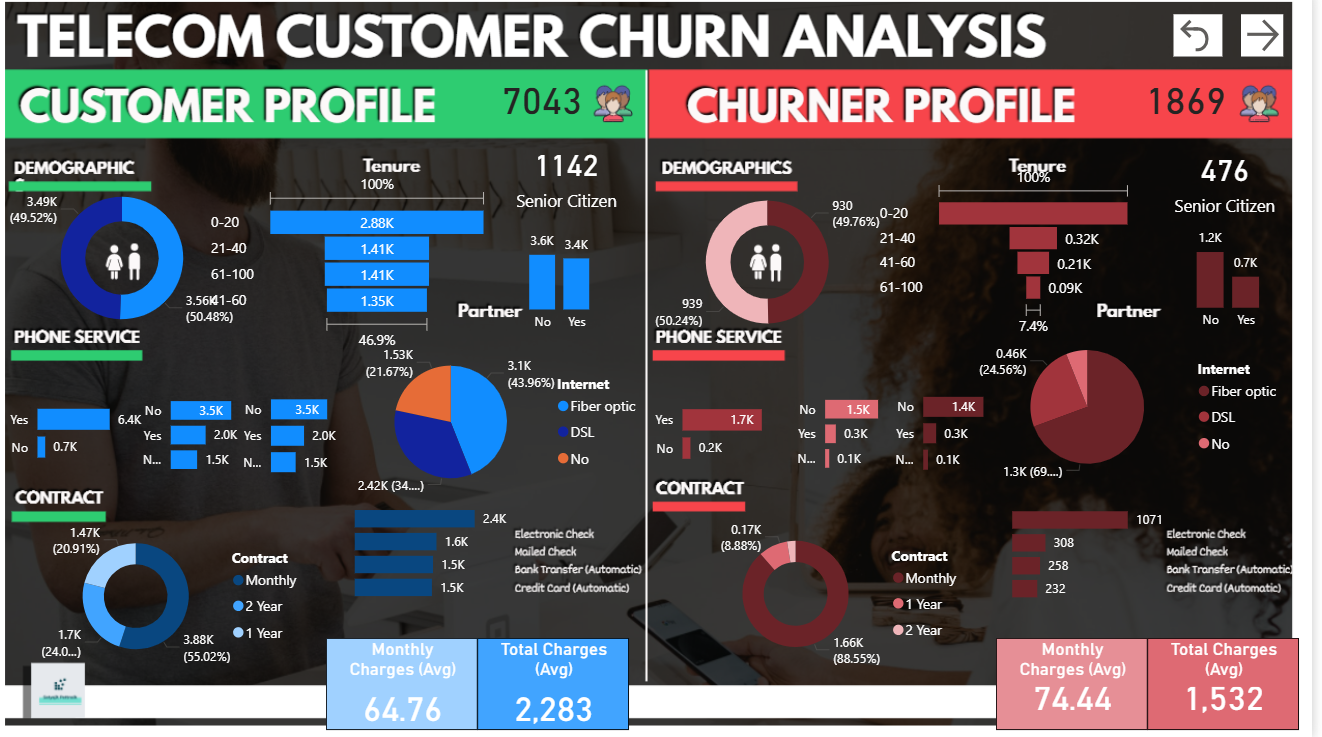

The page's visual inventory and layout, read from the dashboard file:
{"tool":"powerbi","page":{"name":"Summary","canvas":[1280,720],"ordinal":0},"visuals":[{"type":"card","fields":{"Values":["CountNonNull(Churned_Data.Churn)"]},"box":[1077.6,84.7,161.6,54.9],"z":0},{"type":"card","fields":{"Values":["CountNonNull(Telco-Churn-Analysis.Churn)"]},"box":[456.5,84.7,161.6,54.9],"z":1000},{"type":"donutChart","fields":{"Category":["Telco-Churn-Analysis.gender"],"Y":["CountNonNull(Telco-Churn-Analysis.gender)"]},"box":[17.3,169.4,229,174.1],"z":2000},{"type":"donutChart","fields":{"Category":["Churned_Data.gender"],"Y":["CountNonNull(Churned_Data.gender)"]},"box":[639.9,172.2,229.6,174.6],"z":3000},{"type":"funnel","fields":{"Category":["Telco-Churn-Analysis.Tenure_Bin"],"Y":["CountNonNull(Telco-Churn-Analysis.Tenure_Bin)"]},"box":[212.9,169.1,278,180.4],"z":4000},{"type":"funnel","fields":{"Category":["Churned_Data.Tenure_Bin"],"Y":["CountNonNull(Churned_Data.Tenure_Bin)"]},"box":[858,161.6,254.1,174.1],"z":5000},{"type":"card","fields":{"Values":["Sum(Telco-Churn-Analysis.SeniorCitizen)"]},"box":[505.1,138,109.8,76.9],"z":6000},{"type":"card","fields":{"Values":["Sum(Churned_Data.SeniorCitizen)"]},"box":[1140.4,141.2,111.4,78.4],"z":7000},{"type":"clusteredColumnChart","fields":{"Category":["Telco-Churn-Analysis.Partner"],"Y":["CountNonNull(Telco-Churn-Analysis.Partner)"]},"box":[489.4,219.6,128.6,116.1],"z":8000},{"type":"clusteredColumnChart","fields":{"Category":["Churned_Data.Partner"],"Y":["CountNonNull(Churned_Data.Partner)"]},"box":[1132.5,214.9,133.3,119.2],"z":9000},{"type":"clusteredBarChart","fields":{"Category":["Telco-Churn-Analysis.PhoneService"],"Y":["CountNonNull(Telco-Churn-Analysis.PhoneService)"]},"box":[17.3,363.9,139.6,114.5],"z":10000},{"type":"clusteredBarChart","fields":{"Category":["Churned_Data.PhoneService"],"Y":["CountNonNull(Churned_Data.PhoneService)"]},"box":[640,363.9,141.2,116.1],"z":11000},{"type":"clusteredBarChart","fields":{"Category":["Telco-Churn-Analysis.OnlineSecurity"],"Y":["CountNonNull(Telco-Churn-Analysis.OnlineSecurity)"]},"box":[131.8,371.8,134.9,103.5],"z":12000},{"type":"clusteredBarChart","fields":{"Category":["Churned_Data.OnlineSecurity"],"Y":["CountNonNull(Churned_Data.OnlineSecurity)"]},"box":[765.5,370.2,125.5,103.5],"z":13000},{"type":"clusteredBarChart","fields":{"Category":["Telco-Churn-Analysis.TechSupport"],"Y":["CountNonNull(Telco-Churn-Analysis.TechSupport)"]},"box":[229,368.6,133.3,109.8],"z":14000},{"type":"clusteredBarChart","fields":{"Category":["Churned_Data.TechSupport"],"Y":["CountNonNull(Churned_Data.TechSupport)"]},"box":[858,367.1,136.5,109.8],"z":15000},{"type":"pieChart","fields":{"Y":["CountNonNull(Telco-Churn-Analysis.InternetService)"],"Category":["Telco-Churn-Analysis.InternetService"]},"box":[342,334.1,299.6,160],"z":16000},{"type":"pieChart","fields":{"Category":["Churned_Data.InternetService"],"Y":["CountNonNull(Churned_Data.InternetService)"]},"box":[952.2,320,307.5,160],"z":17000},{"type":"donutChart","fields":{"Category":["Telco-Churn-Analysis.Contract"],"Y":["CountNonNull(Telco-Churn-Analysis.Contract)"]},"box":[47.1,505.1,268.2,153.7],"z":18000},{"type":"donutChart","fields":{"Category":["Churned_Data.Contract"],"Y":["CountNonNull(Churned_Data.Contract)"]},"box":[683.8,503.5,268,154.1],"z":19000},{"type":"clusteredBarChart","fields":{"Category":["Telco-Churn-Analysis.PaymentMethod"],"Y":["CountNonNull(Telco-Churn-Analysis.PaymentMethod)"]},"box":[351.4,486.3,161.6,102],"z":20000},{"type":"clusteredBarChart","fields":{"Category":["Churned_Data.PaymentMethod"],"Y":["CountNonNull(Churned_Data.PaymentMethod)"]},"box":[985.1,487.8,160,102],"z":21000},{"type":"card","title":"Monthly Charges (Avg)","fields":{"Values":["Avg(Telco-Churn-Analysis.MonthlyCharges)"]},"box":[328.1,622.5,146.5,88.9],"z":22000},{"type":"card","title":"Monthly Charges (Avg)","fields":{"Values":["Avg(Churned_Data.MonthlyCharges)"]},"box":[974.4,622.5,146.5,88.9],"z":23000},{"type":"card","title":"Total Charges (Avg)","fields":{"Values":["Avg(Churned_Data.TotalCharges)"]},"box":[1120.9,622.5,146.5,88.9],"z":24000},{"type":"card","title":"Total Charges (Avg)","fields":{"Values":["Avg(Telco-Churn-Analysis.TotalCharges)"]},"box":[474.7,622.5,146.5,88.9],"z":25000},{"type":"actionButton","box":[1211,20.4,40.8,40.8],"z":26000},{"type":"actionButton","box":[1146.7,20.4,47.1,40.8],"z":27000}]}

Visuals, with their boxes in screenshot pixels (x1, y1, x2, y2), scaled from the page's 1280x720 canvas onto the 1322x737 screenshot:
card - CountNonNull(Churned_Data.Churn): crop(1113, 87, 1280, 143)
card - CountNonNull(Telco-Churn-Analysis.Churn): crop(471, 87, 638, 143)
donutChart - Telco-Churn-Analysis.gender x CountNonNull(Telco-Churn-Analysis.gender): crop(18, 173, 254, 352)
donutChart - Churned_Data.gender x CountNonNull(Churned_Data.gender): crop(661, 176, 898, 355)
funnel - Telco-Churn-Analysis.Tenure_Bin x CountNonNull(Telco-Churn-Analysis.Tenure_Bin): crop(220, 173, 507, 358)
funnel - Churned_Data.Tenure_Bin x CountNonNull(Churned_Data.Tenure_Bin): crop(886, 165, 1149, 344)
card - Sum(Telco-Churn-Analysis.SeniorCitizen): crop(522, 141, 635, 220)
card - Sum(Churned_Data.SeniorCitizen): crop(1178, 145, 1293, 225)
clusteredColumnChart - Telco-Churn-Analysis.Partner x CountNonNull(Telco-Churn-Analysis.Partner): crop(505, 225, 638, 344)
clusteredColumnChart - Churned_Data.Partner x CountNonNull(Churned_Data.Partner): crop(1170, 220, 1307, 342)
clusteredBarChart - Telco-Churn-Analysis.PhoneService x CountNonNull(Telco-Churn-Analysis.PhoneService): crop(18, 372, 162, 490)
clusteredBarChart - Churned_Data.PhoneService x CountNonNull(Churned_Data.PhoneService): crop(661, 372, 807, 491)
clusteredBarChart - Telco-Churn-Analysis.OnlineSecurity x CountNonNull(Telco-Churn-Analysis.OnlineSecurity): crop(136, 381, 275, 487)
clusteredBarChart - Churned_Data.OnlineSecurity x CountNonNull(Churned_Data.OnlineSecurity): crop(791, 379, 920, 485)
clusteredBarChart - Telco-Churn-Analysis.TechSupport x CountNonNull(Telco-Churn-Analysis.TechSupport): crop(237, 377, 374, 490)
clusteredBarChart - Churned_Data.TechSupport x CountNonNull(Churned_Data.TechSupport): crop(886, 376, 1027, 488)
pieChart - CountNonNull(Telco-Churn-Analysis.InternetService) x Telco-Churn-Analysis.InternetService: crop(353, 342, 663, 506)
pieChart - Churned_Data.InternetService x CountNonNull(Churned_Data.InternetService): crop(983, 328, 1301, 491)
donutChart - Telco-Churn-Analysis.Contract x CountNonNull(Telco-Churn-Analysis.Contract): crop(49, 517, 326, 674)
donutChart - Churned_Data.Contract x CountNonNull(Churned_Data.Contract): crop(706, 515, 983, 673)
clusteredBarChart - Telco-Churn-Analysis.PaymentMethod x CountNonNull(Telco-Churn-Analysis.PaymentMethod): crop(363, 498, 530, 602)
clusteredBarChart - Churned_Data.PaymentMethod x CountNonNull(Churned_Data.PaymentMethod): crop(1017, 499, 1183, 604)
"Monthly Charges (Avg)" card: crop(339, 637, 490, 728)
"Monthly Charges (Avg)" card: crop(1006, 637, 1158, 728)
"Total Charges (Avg)" card: crop(1158, 637, 1309, 728)
"Total Charges (Avg)" card: crop(490, 637, 642, 728)
actionButton: crop(1251, 21, 1293, 63)
actionButton: crop(1184, 21, 1233, 63)
